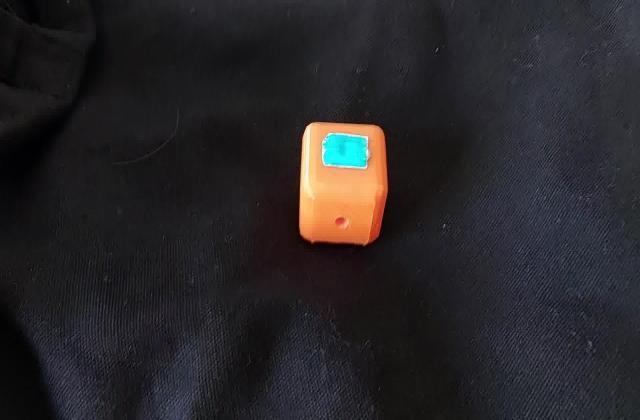blue: (330, 140, 364, 164)
cube: (293, 115, 393, 249)
